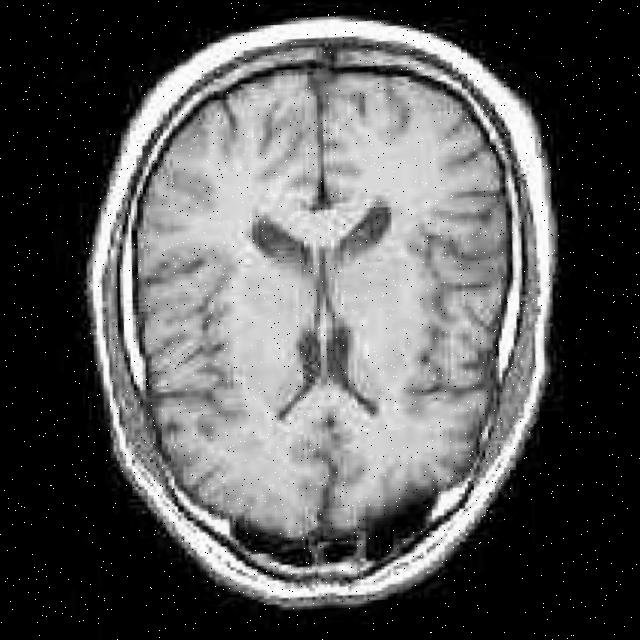NoTumor: (60, 1, 588, 625)
